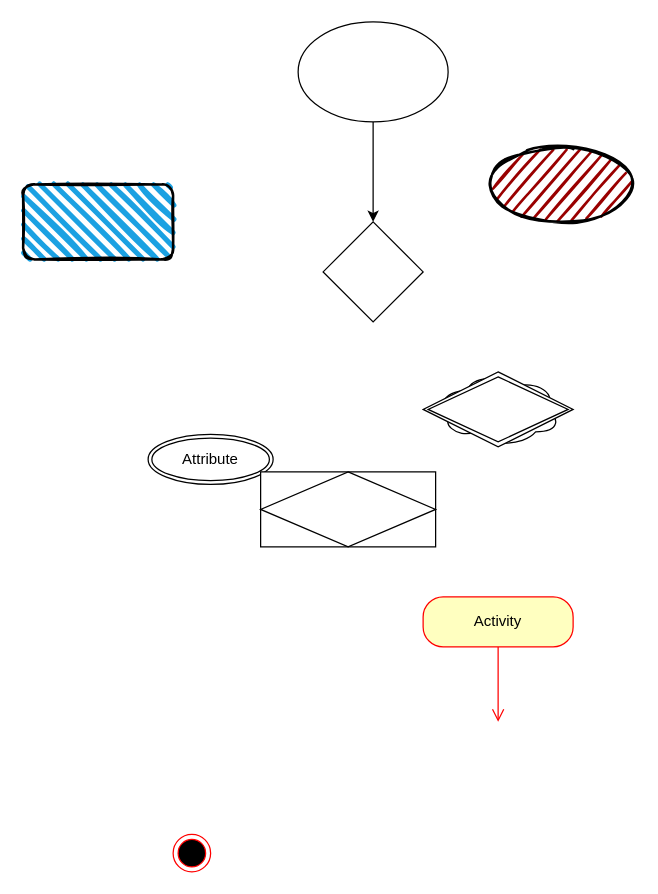
The diagram is 658 pixels wide and 894 high, and some of its shapes have lost their labels. Here are the shapes that lost their labels. From the top down, the centre of each, then its label:
At [497,409]: "Relationship".
At [347,509]: "Associative Entity".
